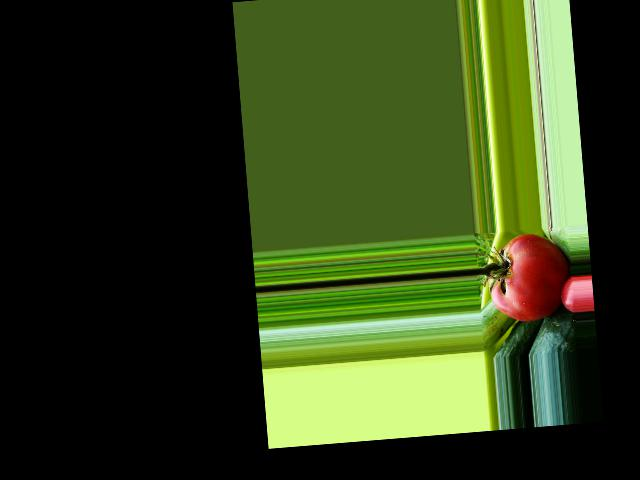tomato: (486, 230, 574, 323)
